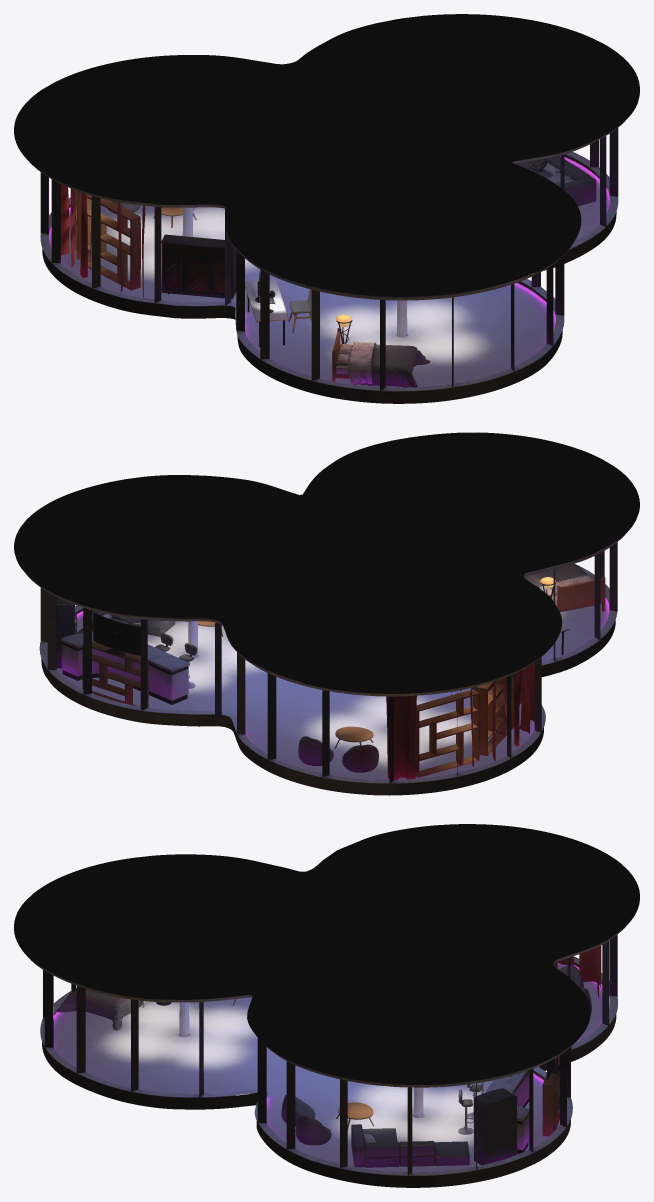
File: chill_zone.glb
The picture shows the model from 3 angles, top to bottom: view 1: azimuth 30°, elevation 25°; view 2: azimuth 150°, elevation 25°; view 3: azimuth 270°, elevation 25°; orthographic projection. The views are drawn at different scales.
Parts seen in each view (by area): view 1: Object_4, Object_6; view 2: Object_4, Object_6; view 3: Object_4, Object_6.
Boxes of the visible parts, box(x1,y1,x2,y2) form: Object_4: box(14, 14, 639, 403); Object_6: box(61, 155, 596, 387); Object_4: box(14, 432, 639, 795); Object_6: box(56, 564, 605, 779); Object_4: box(14, 824, 639, 1187); Object_6: box(57, 945, 601, 1167).
Size of the model in its own units: 17.61 by 3.63 by 17.91.
Materials: 2 (2 with a texture image).
